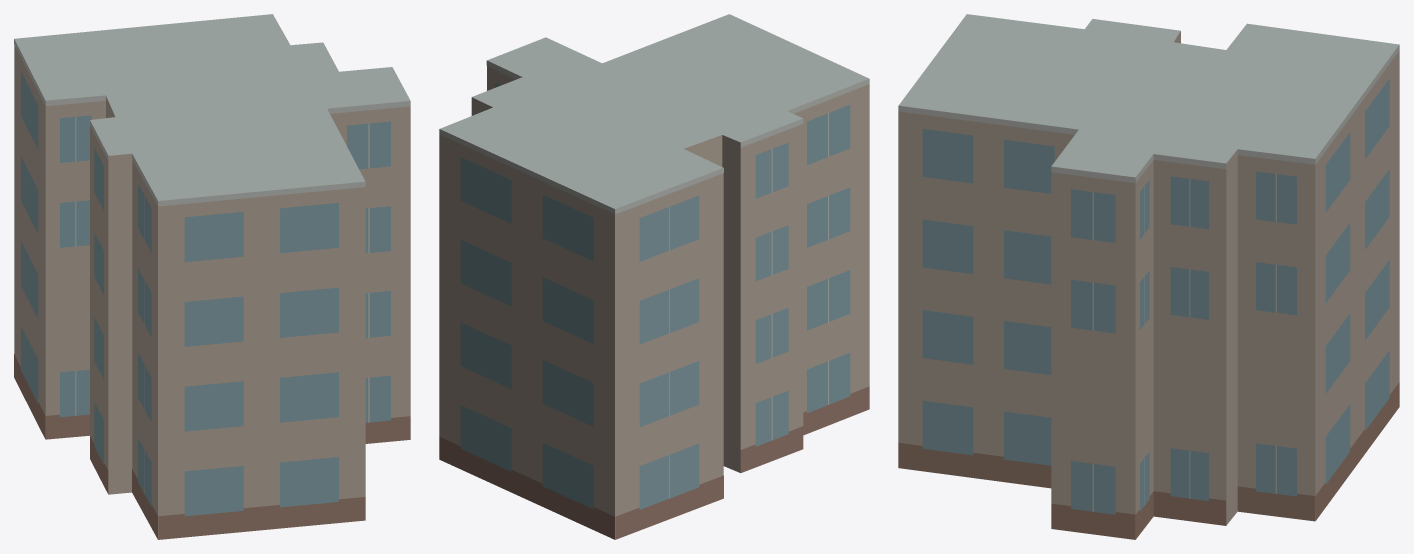
The model's file is survey-upis-32511328.glb.
3 renders of one model, left to right at view 1: azimuth 30°, elevation 25°; view 2: azimuth 150°, elevation 25°; view 3: azimuth 270°, elevation 25°, orthographic. The views are drawn at different scales.
Parts seen in each view (by area): view 1: survey-upis-32511328.tmp; view 2: survey-upis-32511328.tmp; view 3: survey-upis-32511328.tmp.
Part boxes in pixels (<box>): survey-upis-32511328.tmp: <box>14,14,410,539</box>; survey-upis-32511328.tmp: <box>439,14,869,539</box>; survey-upis-32511328.tmp: <box>898,14,1399,539</box>.
Size of the model in its own units: 14.71 by 15.2 by 19.06.
